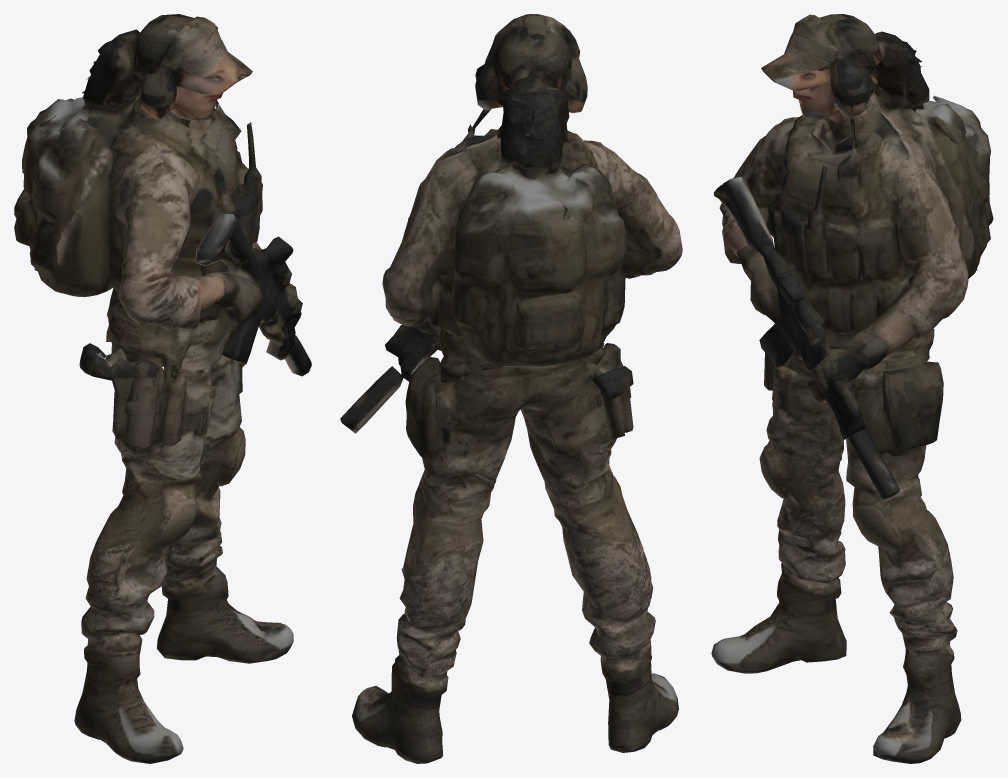
The model's file is operator_2.glb.
3 renders of one model, left to right at view 1: azimuth 30°, elevation 25°; view 2: azimuth 150°, elevation 25°; view 3: azimuth 270°, elevation 25°, orthographic. The views are drawn at different scales.
Visible parts, largest first — view 1: tripo_node_8237960c-f57d-496b-993a-57e5dd9242c5; view 2: tripo_node_8237960c-f57d-496b-993a-57e5dd9242c5; view 3: tripo_node_8237960c-f57d-496b-993a-57e5dd9242c5.
Part boxes in pixels (x1,y1,x2,y2): tripo_node_8237960c-f57d-496b-993a-57e5dd9242c5: (14, 14, 311, 763); tripo_node_8237960c-f57d-496b-993a-57e5dd9242c5: (340, 14, 682, 763); tripo_node_8237960c-f57d-496b-993a-57e5dd9242c5: (711, 14, 993, 763).
Bounding box in the file's own units: 0.4168 × 1 × 0.3719.
Materials: 1 (1 with a texture image).
